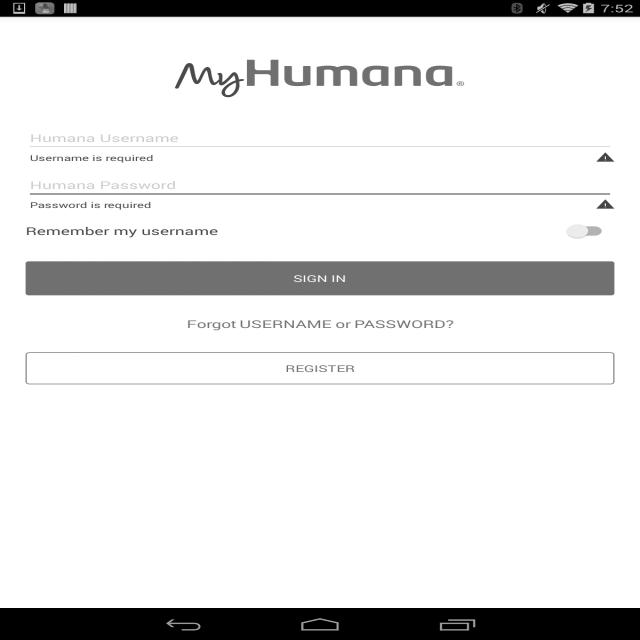Button: (26, 352, 614, 384)
EditText: (26, 124, 614, 152), (26, 171, 614, 199)
ImageView: (175, 33, 465, 97), (596, 152, 614, 164), (596, 200, 614, 212)
Switch: (26, 222, 614, 240)
TextView: (26, 152, 595, 164), (26, 200, 595, 210), (293, 262, 346, 296), (240, 317, 336, 331), (354, 317, 446, 331), (186, 317, 240, 331), (336, 317, 354, 331), (446, 317, 454, 331)
